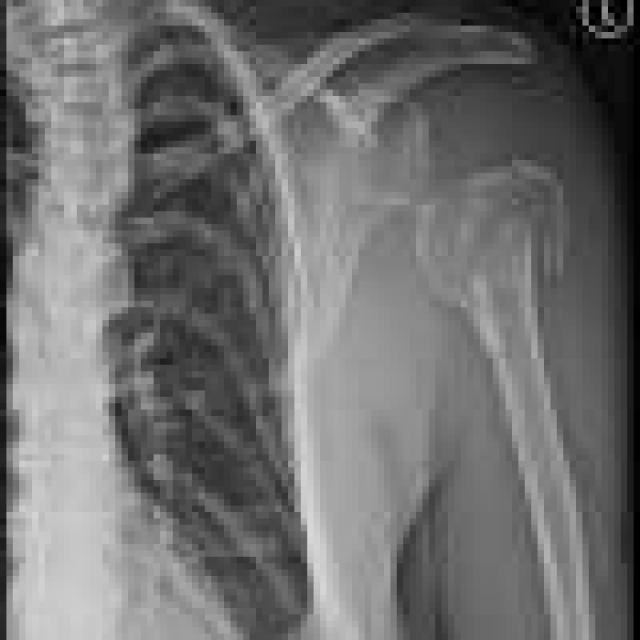Fracture: (311, 69, 596, 391)
